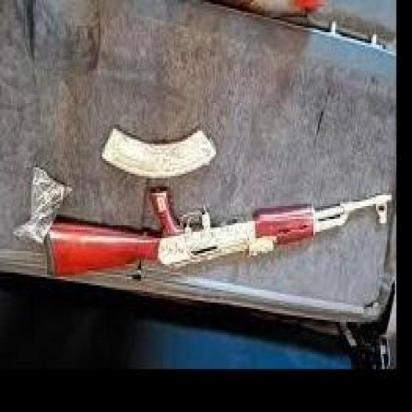Gun: (40, 188, 393, 280)
